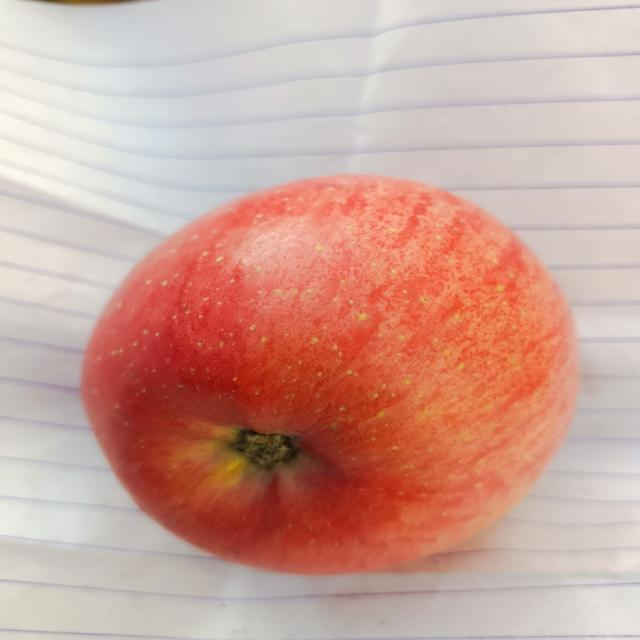Fresh Apple: (77, 170, 580, 576)
